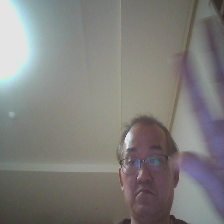hand: (177, 11, 224, 216)
